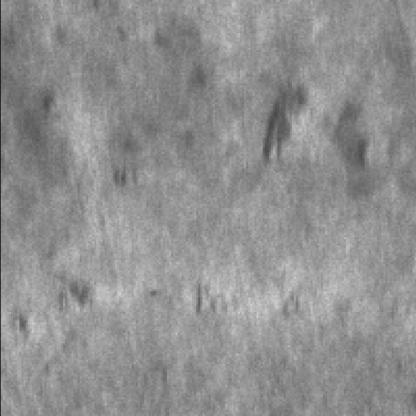rolled-in_scale: (258, 60, 380, 202)
